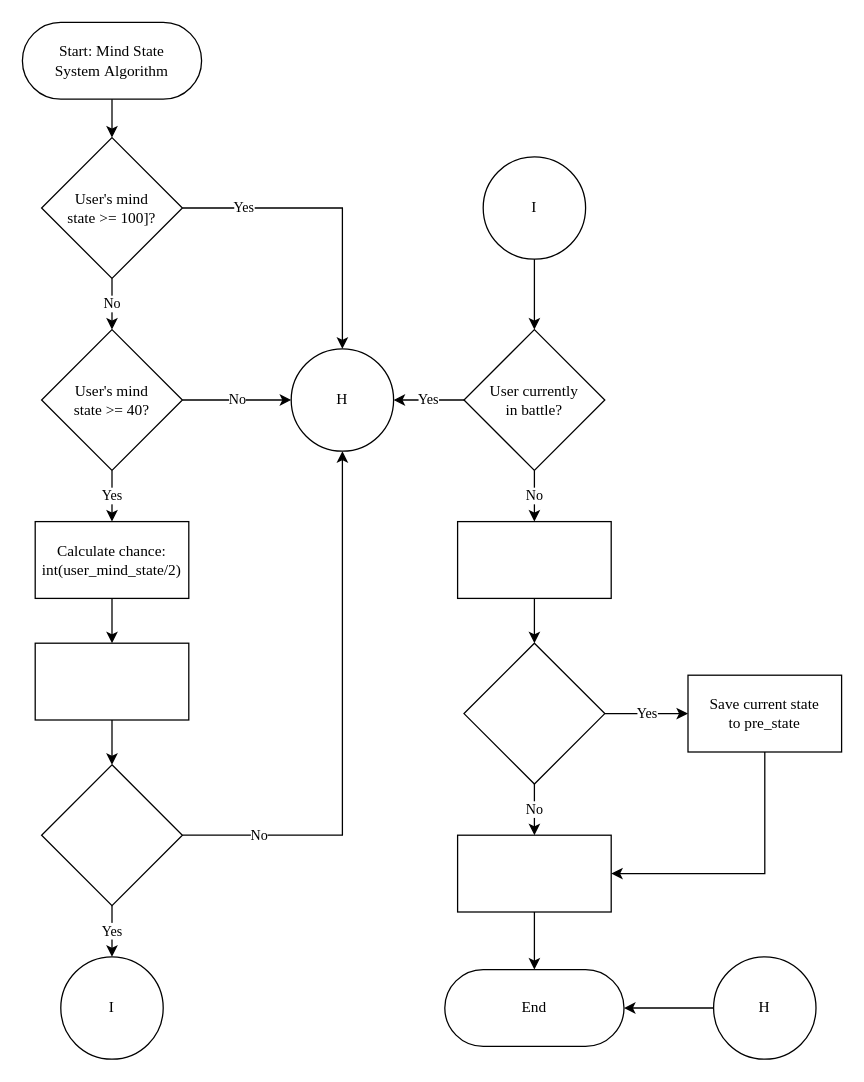
The diagram is 864 pixels wide and 1082 high, and some of its shapes have lost their labels. Here are the shapes that lost their labels. From the top down, the centre of each, then its label:
At point 533,559: "Player enters combat".
At point 111,681: "Roll between 1 to 100 and set result to ran_chance".
At point 534,713: "Is state not in fight_general?".
At point 111,835: "Is chance >= ran_chance?".
At point 533,873: "Set state to fight_general".
